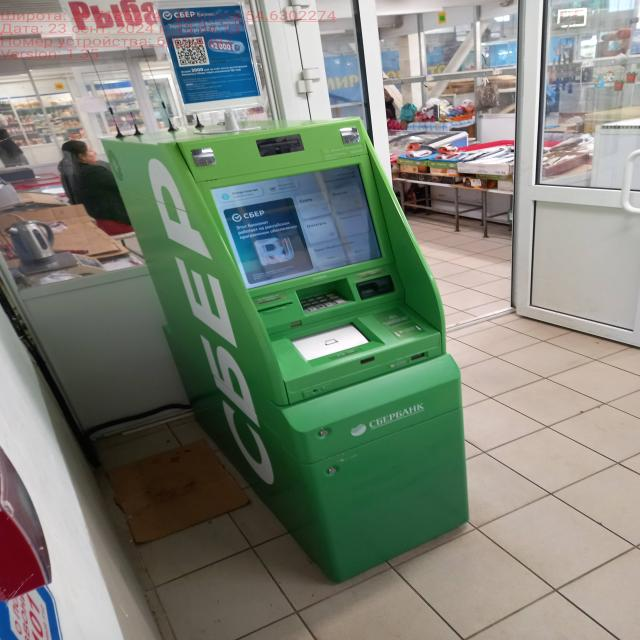bank: (96, 117, 476, 584)
